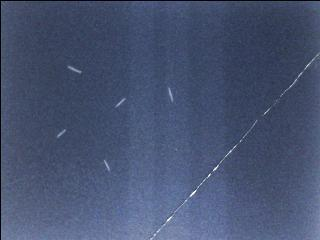crack: (150, 53, 320, 240)
scratch: (65, 61, 85, 79), (112, 96, 129, 115), (166, 83, 176, 104), (102, 156, 112, 173), (55, 128, 67, 140)
